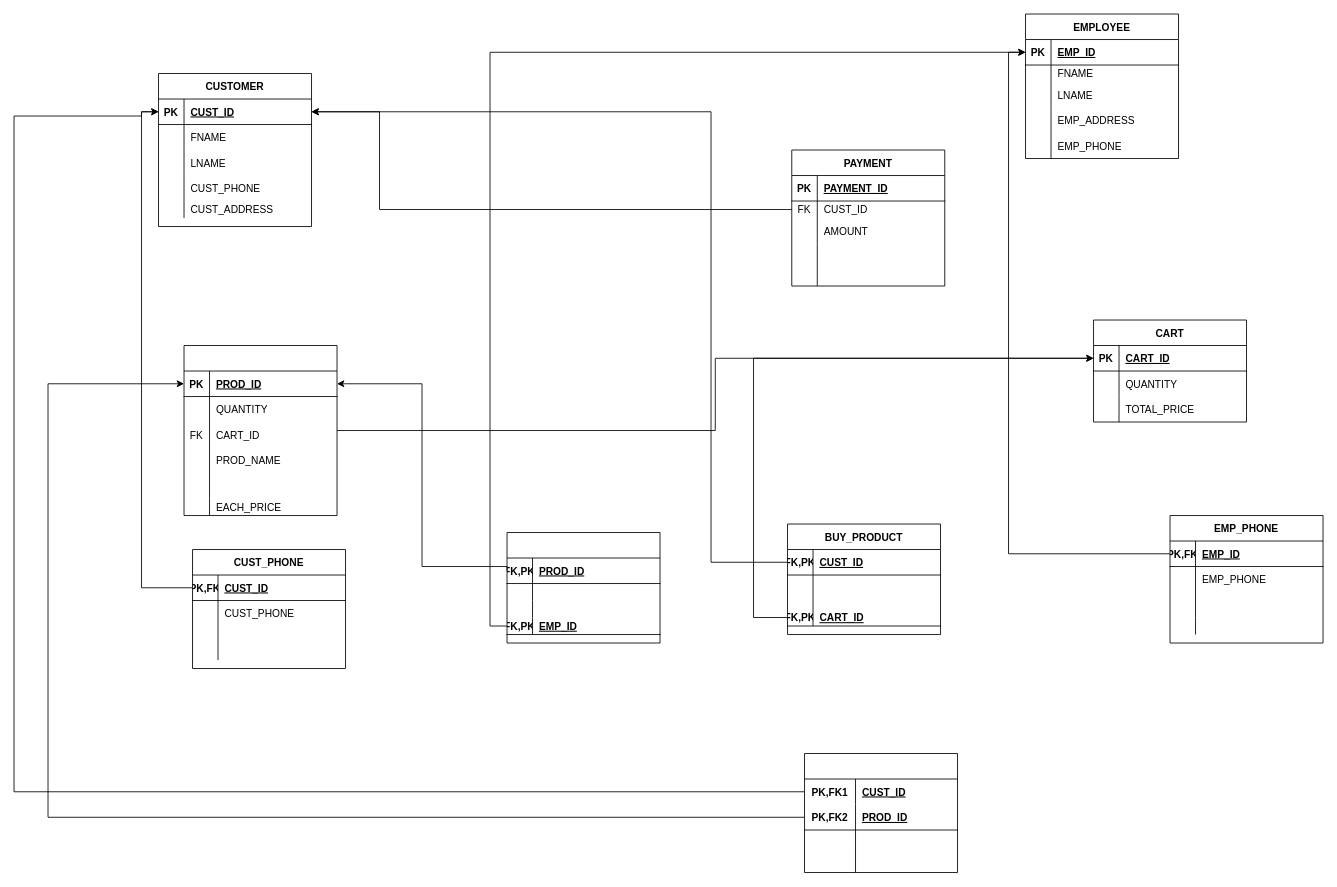
Some shapes in this 1337 by 887 pixel diagram are drawn without their labels. The shapes that lost their labels are listed below. From the top down, each one's box as (x1, y1, x2, y2) in pixels, then its label:
(183, 345, 337, 516): PRODUCT
(506, 532, 660, 643): MANAGES
(804, 753, 958, 873): PURCHASED
